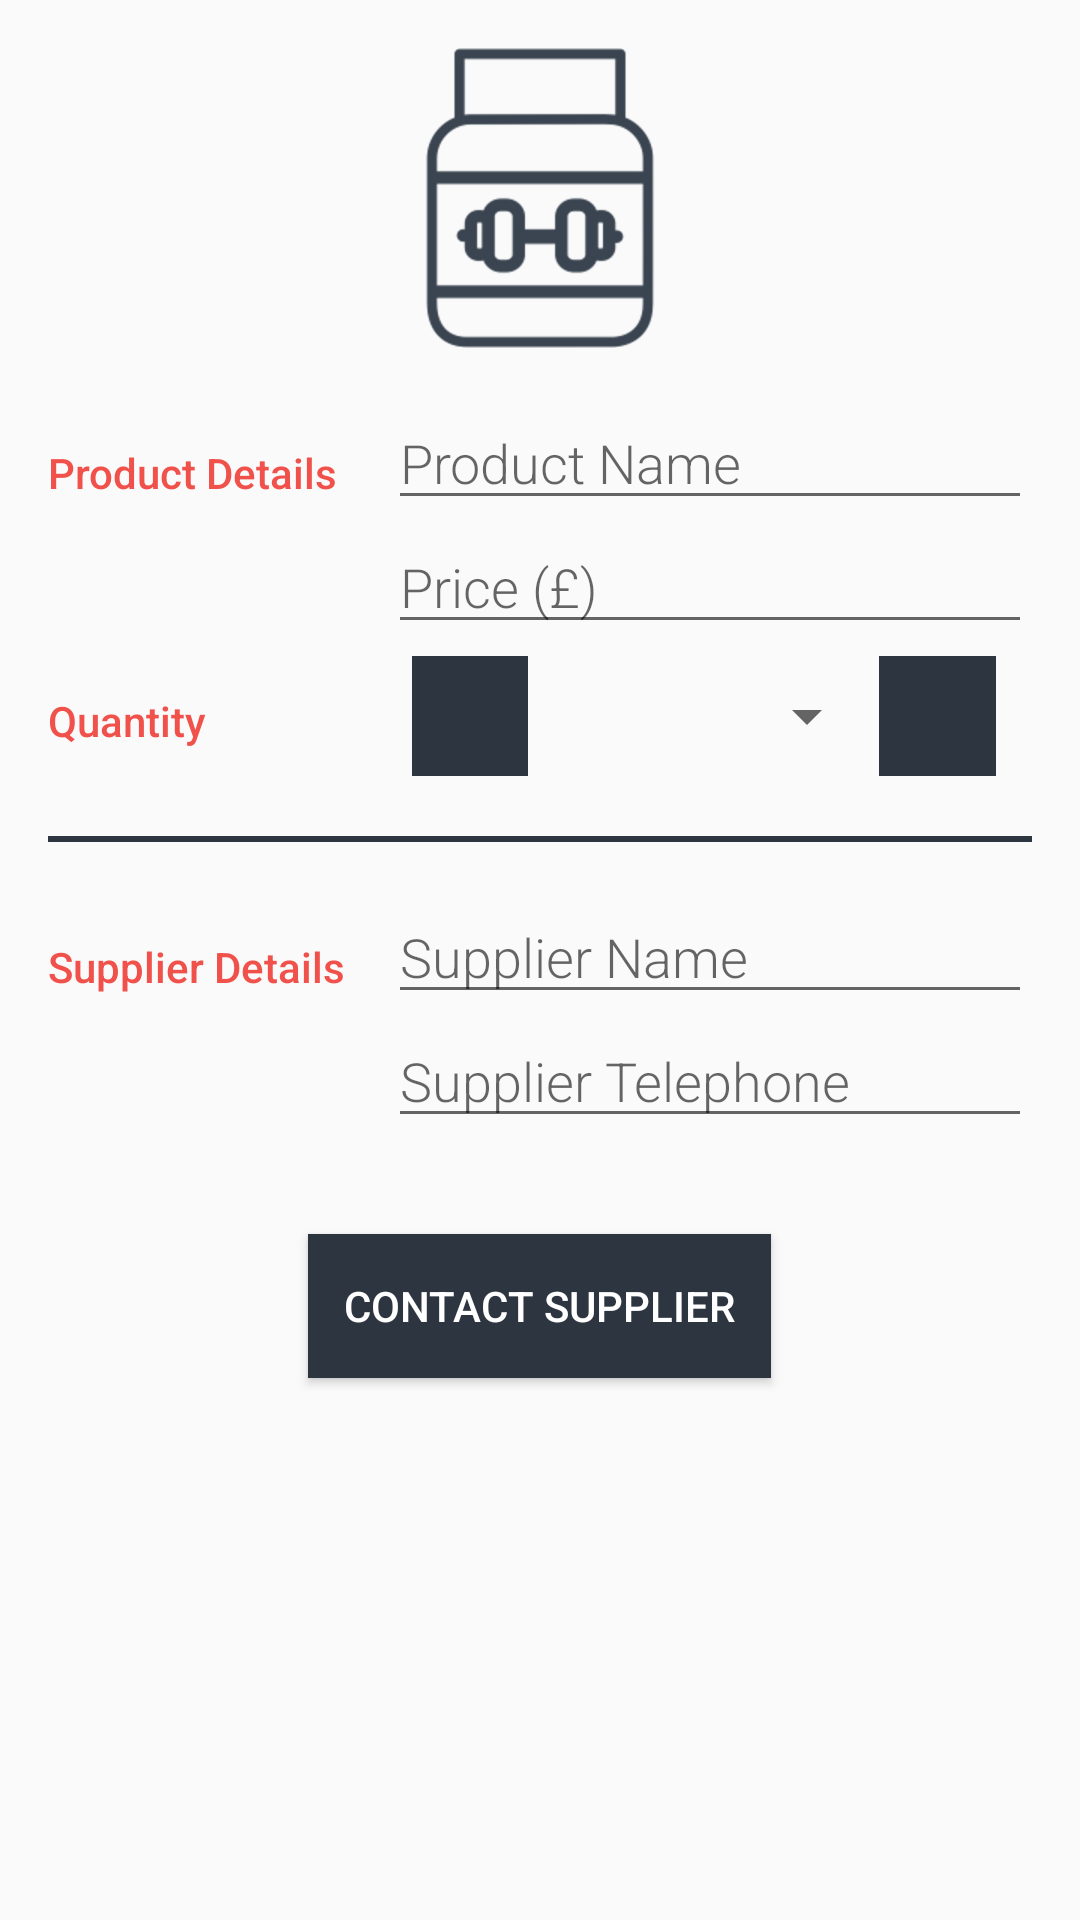

Icons on this 1080×1920 Android screen, each with its box as rect(x1, y1, x2, y2):
supplement: rect(426, 48, 654, 348)
